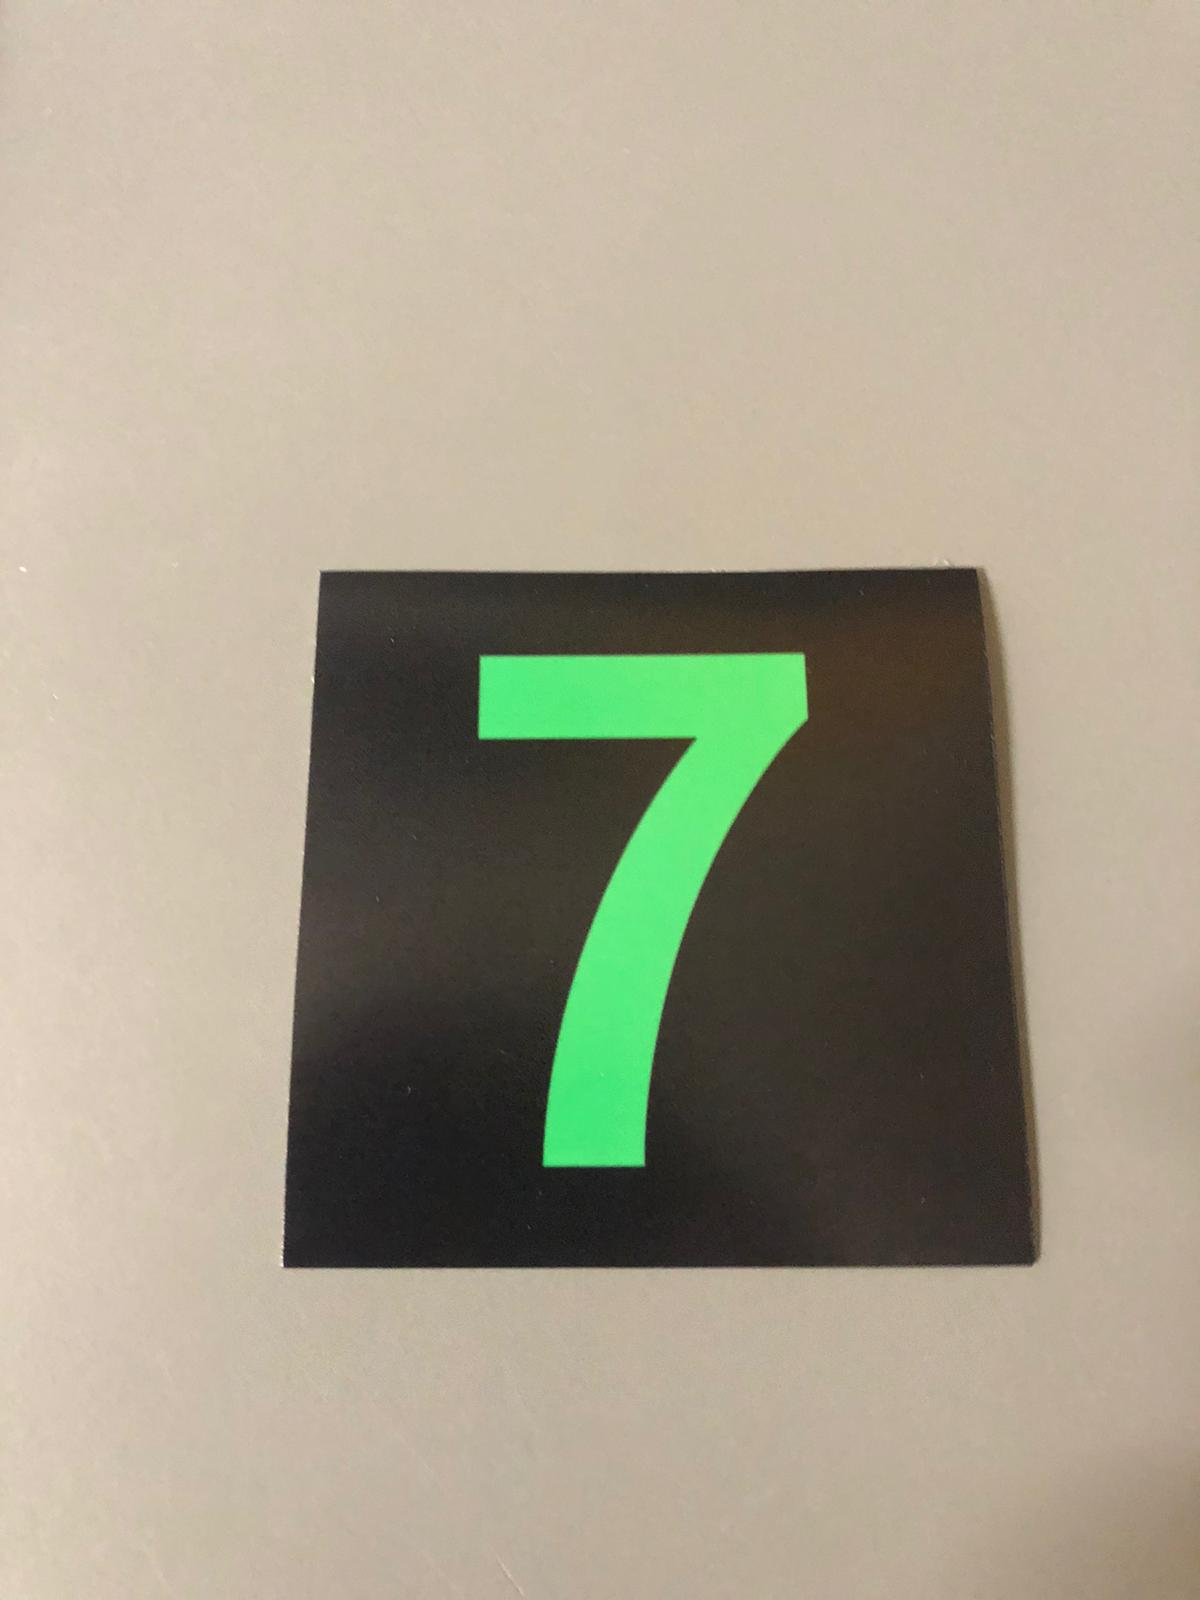Number 7: (321, 574, 983, 1225)
